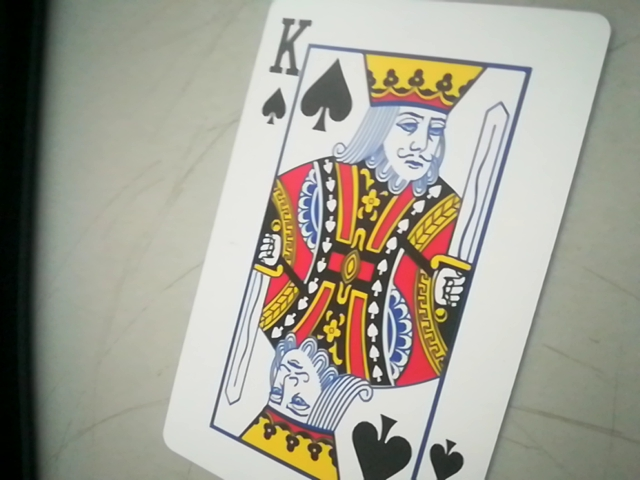ht k: (251, 14, 321, 140)
